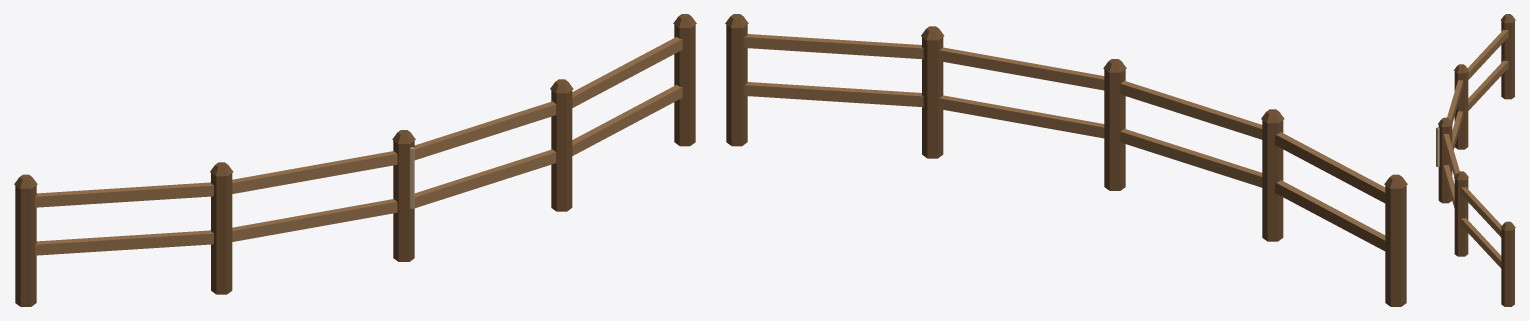
Rendered from grove_training_ring.glb.
3 renders of one model, left to right at view 1: azimuth 30°, elevation 25°; view 2: azimuth 150°, elevation 25°; view 3: azimuth 270°, elevation 25°, orthographic. The views are drawn at different scales.
Visible parts, largest first — view 1: grove_training_ring; view 2: grove_training_ring; view 3: grove_training_ring.
Part boxes in pixels (x1,y1,x2,y2): grove_training_ring: [14, 14, 696, 306]; grove_training_ring: [725, 14, 1407, 306]; grove_training_ring: [1436, 14, 1515, 306].
Size of the model in its own units: 5.91 by 1.05 by 0.9345.
